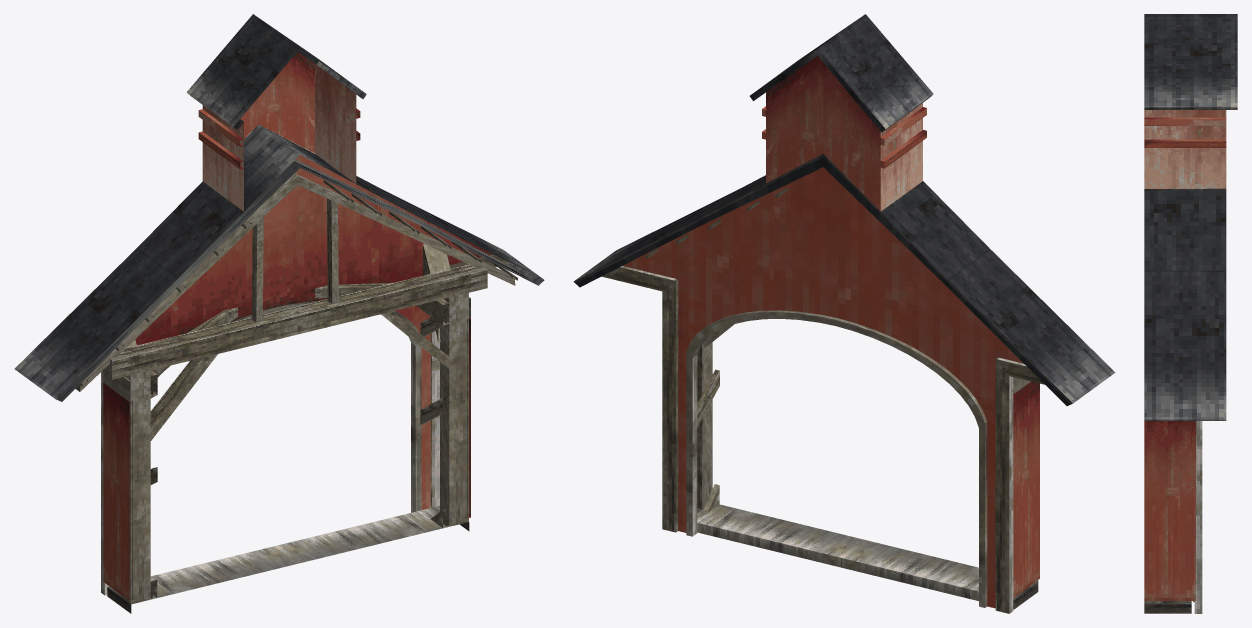
The model's file is 1_b3_first_left.glb.
The picture shows the model from 3 angles, left to right: view 1: azimuth 30°, elevation 25°; view 2: azimuth 150°, elevation 25°; view 3: azimuth 270°, elevation 25°; orthographic projection. The views are drawn at different scales.
Parts seen in each view (by area): view 1: 1_b3_first_left; view 2: 1_b3_first_left; view 3: 1_b3_first_left.
Boxes of the visible parts, x1,y1,x2,y2 form: 1_b3_first_left: [14, 14, 544, 613]; 1_b3_first_left: [573, 14, 1115, 613]; 1_b3_first_left: [1144, 14, 1237, 613].
Size of the model in its own units: 8.69 by 8.91 by 1.45.
Materials: 1 (1 with a texture image).
